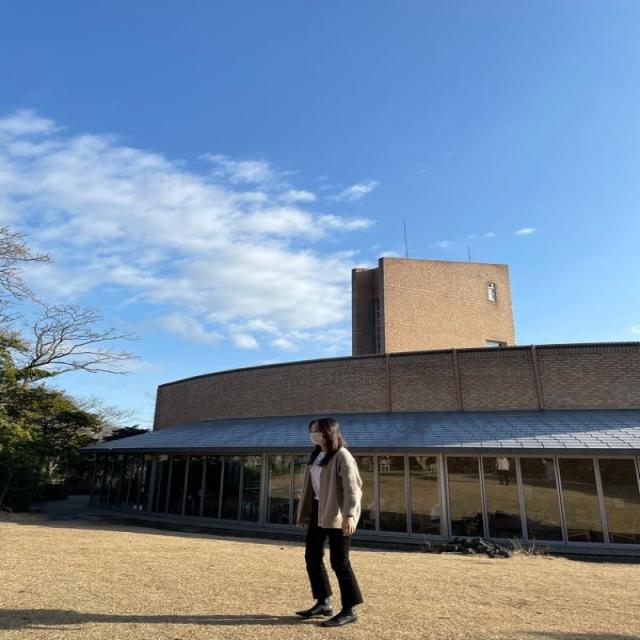cardigan: (297, 443, 367, 532)
denimpants: (308, 494, 360, 612)
